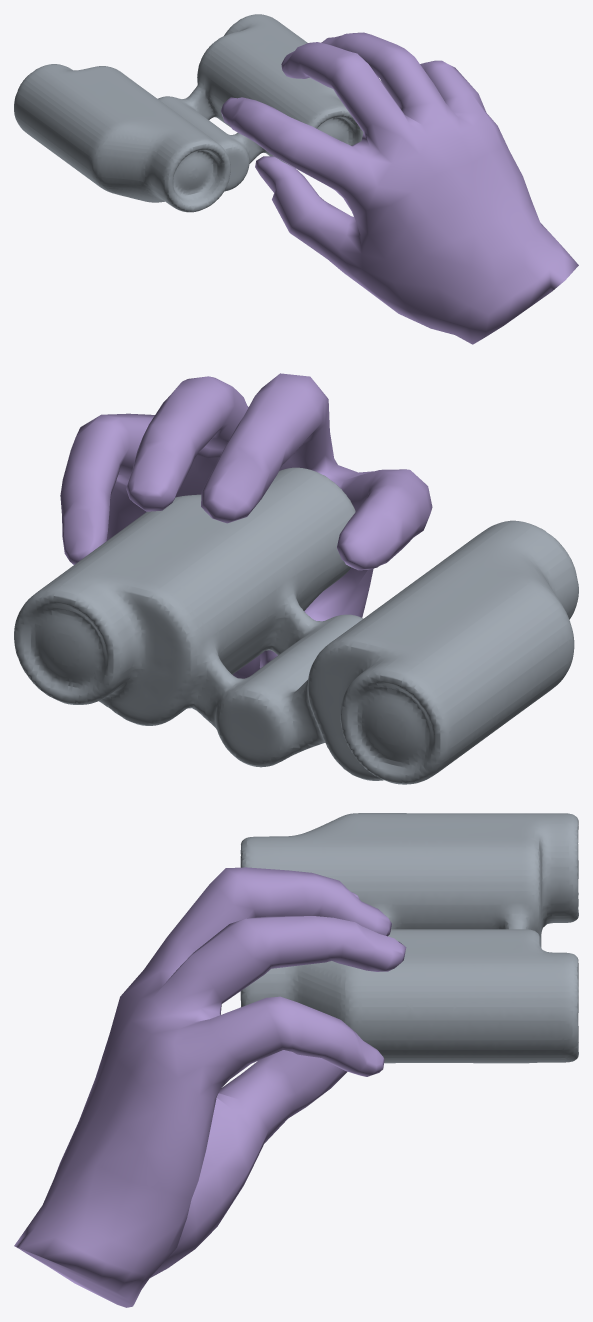
Rendered from ours_1.glb.
3 views of the same model, one above another, from view 1: azimuth 30°, elevation 25°; view 2: azimuth 150°, elevation 25°; view 3: azimuth 270°, elevation 25° (orthographic). The views are drawn at different scales.
Bounding box in the file's own units: 0.1999 × 0.1328 × 0.1819.
